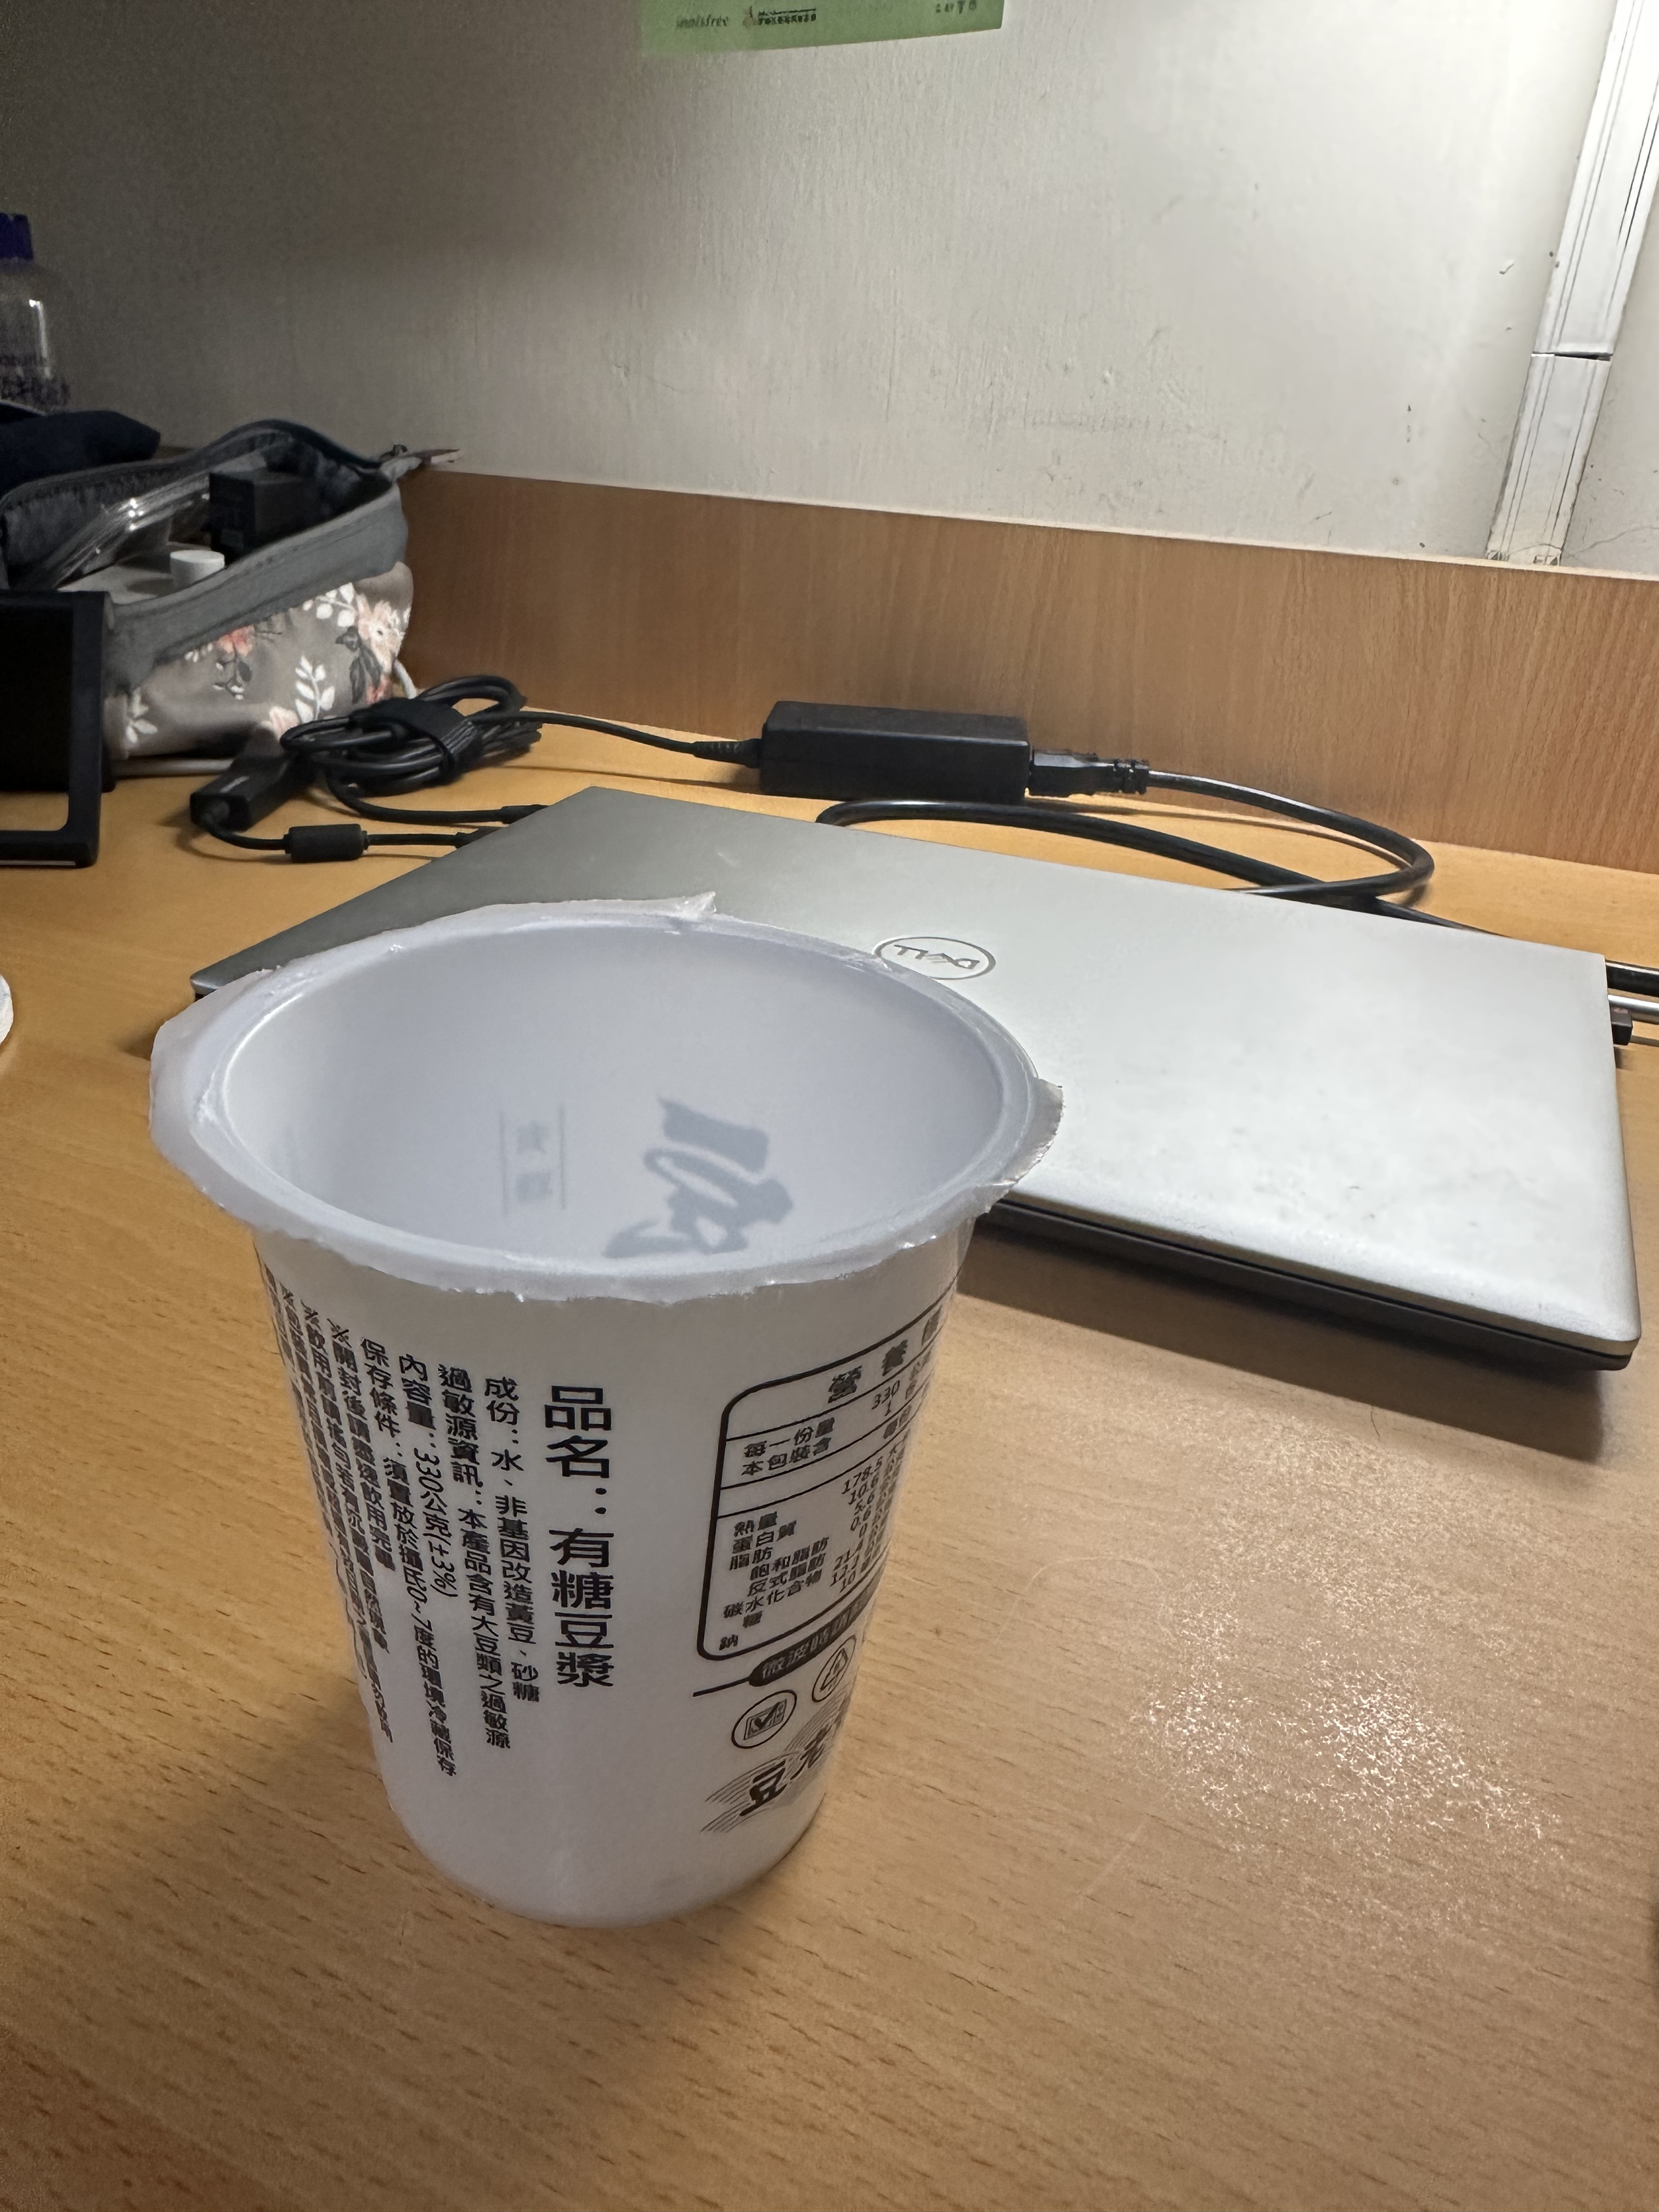cup: (152, 902, 1056, 1932)
